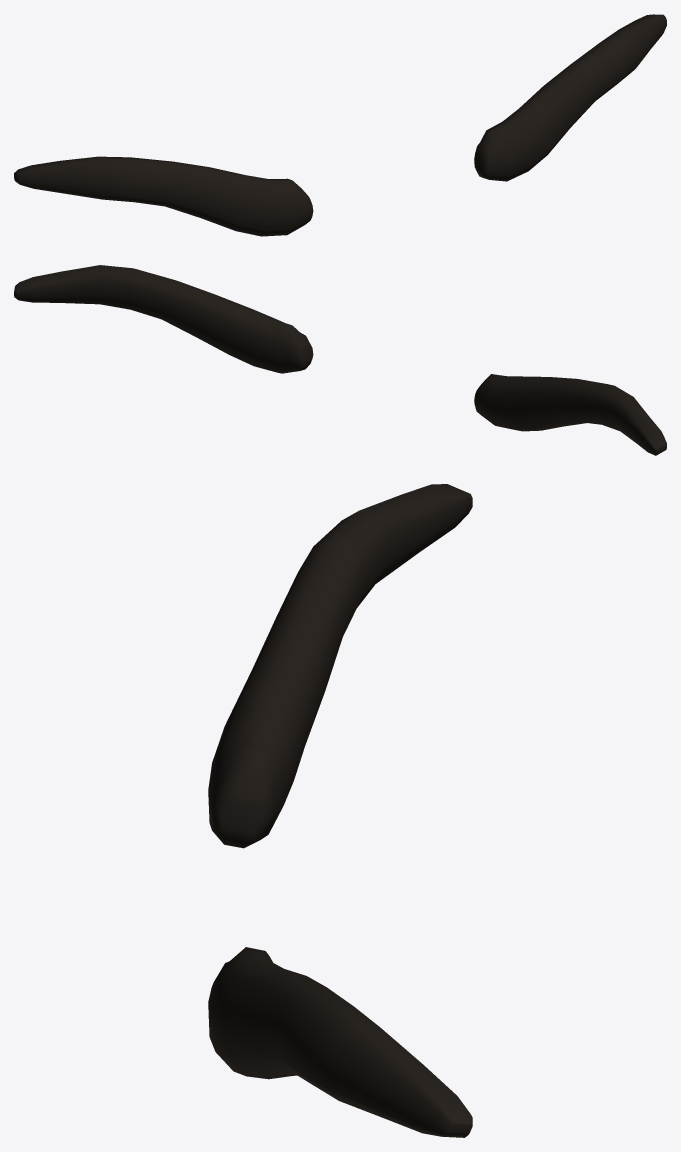
File: Eyebrows_17_01.fbx
The picture shows the model from 3 angles, top to bottom: view 1: azimuth 30°, elevation 25°; view 2: azimuth 150°, elevation 25°; view 3: azimuth 270°, elevation 25°; orthographic projection. The views are drawn at different scales.
Parts seen in each view (by area): view 1: Eyebrows_17_01; view 2: Eyebrows_17_01; view 3: Eyebrows_17_01.
Boxes of the visible parts, x1,y1,x2,y2 form: Eyebrows_17_01: (14, 14, 666, 236); Eyebrows_17_01: (14, 265, 666, 455); Eyebrows_17_01: (208, 484, 472, 1137).
Bounding box in the file's own units: 18.79 × 2.52 × 3.3.
